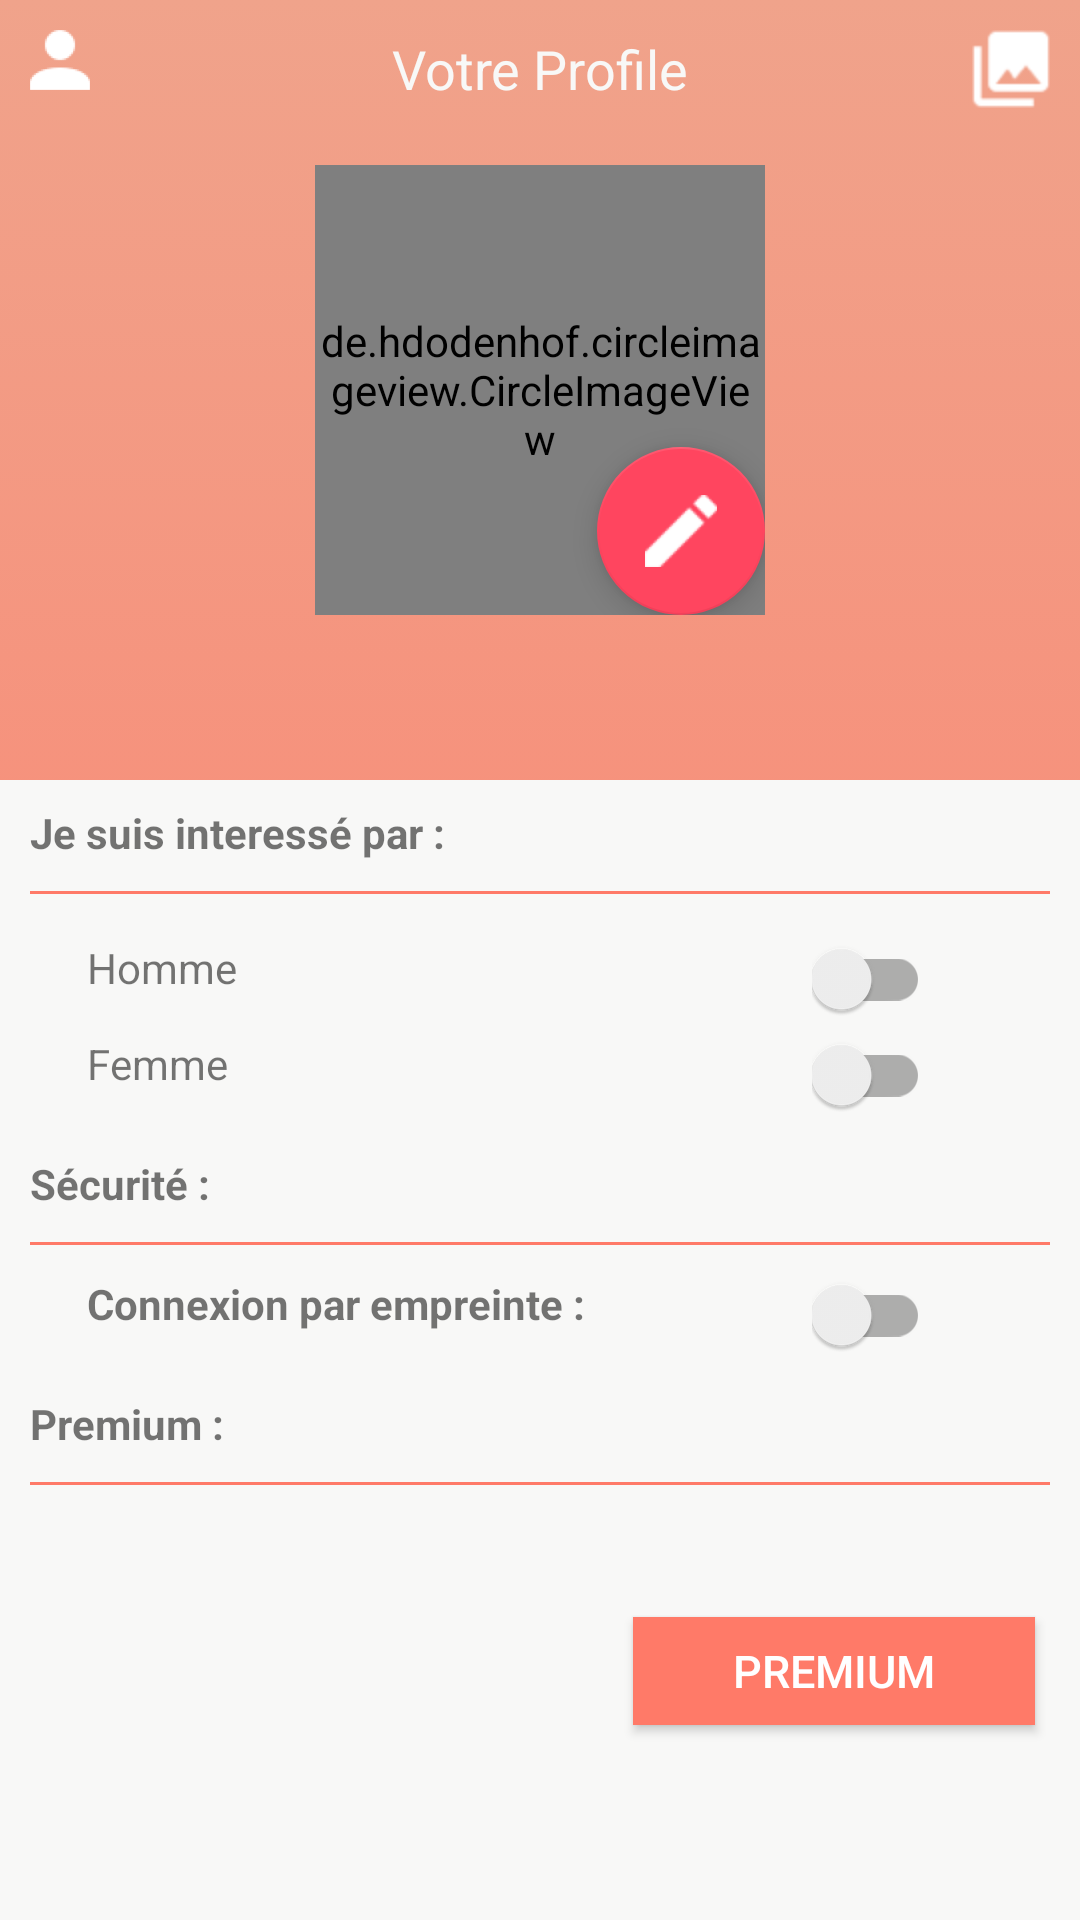

Icon click points for this 1080w x 1920h phone screenshot, format [x,y]:
account: [60,60]
pencil: [681,531]
